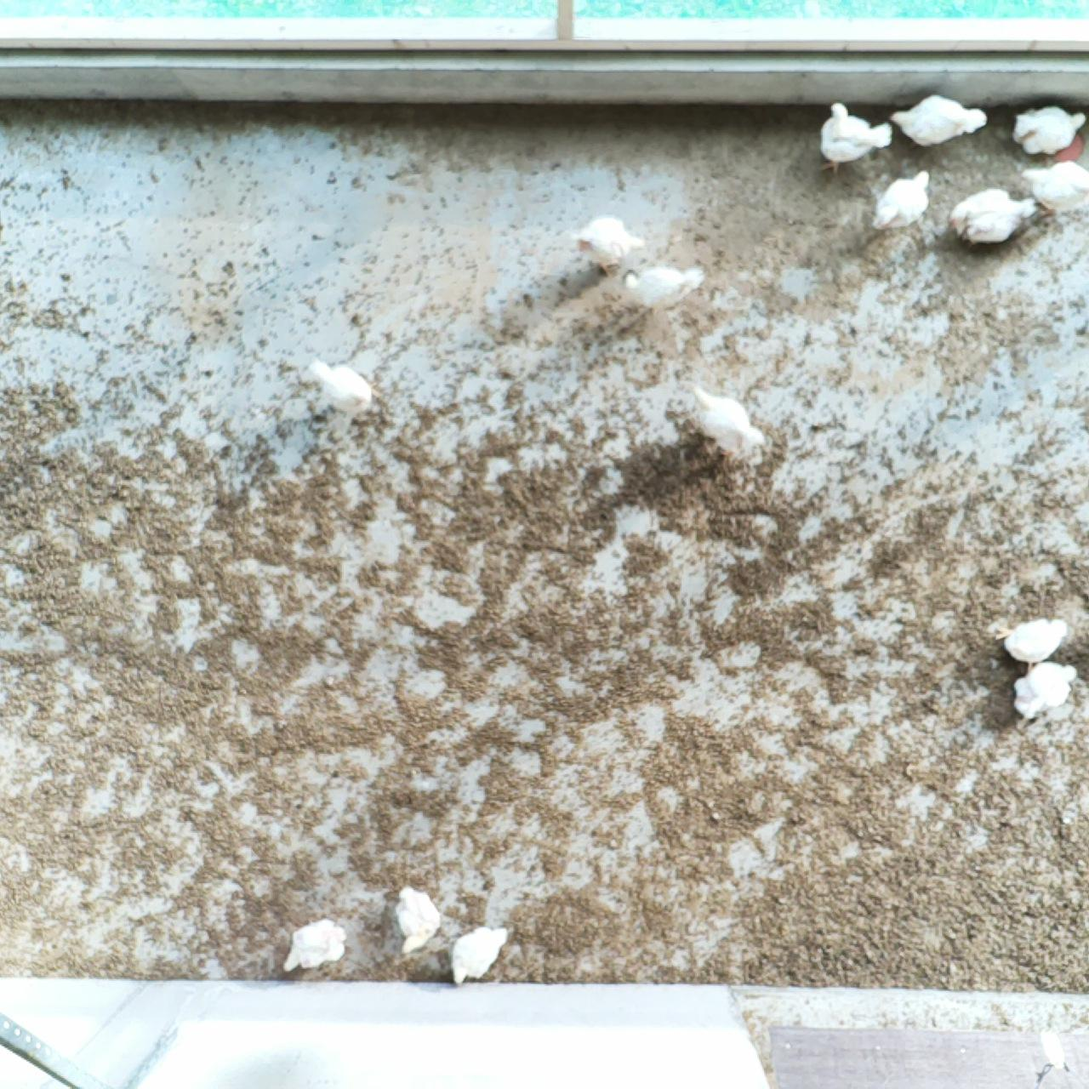chicken: (686, 381, 769, 464), (815, 97, 897, 179), (942, 185, 1040, 252), (889, 90, 991, 152), (572, 209, 649, 282), (992, 612, 1072, 676), (305, 355, 382, 419), (868, 165, 936, 237), (1006, 101, 1089, 159), (1007, 660, 1082, 721), (624, 261, 710, 314), (1018, 157, 1089, 216), (282, 915, 349, 976), (449, 922, 510, 989), (394, 883, 445, 958)
